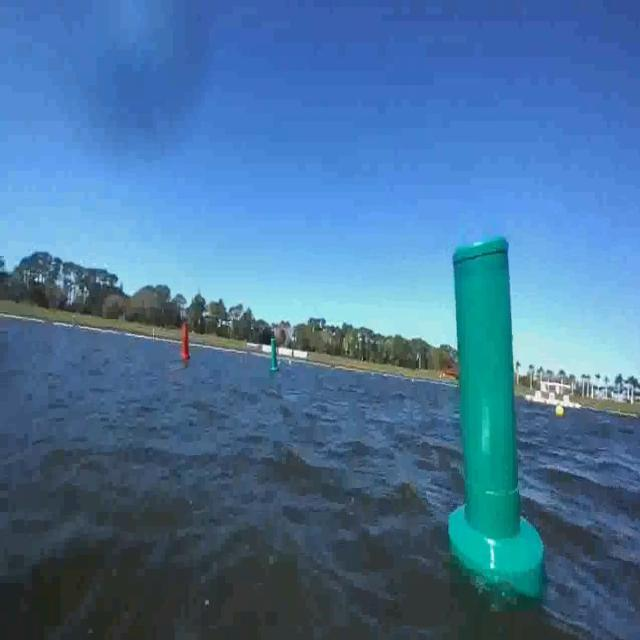green-column-buoy: (448, 246, 545, 606), (264, 334, 283, 376)
red-column-buoy: (180, 316, 194, 371)
